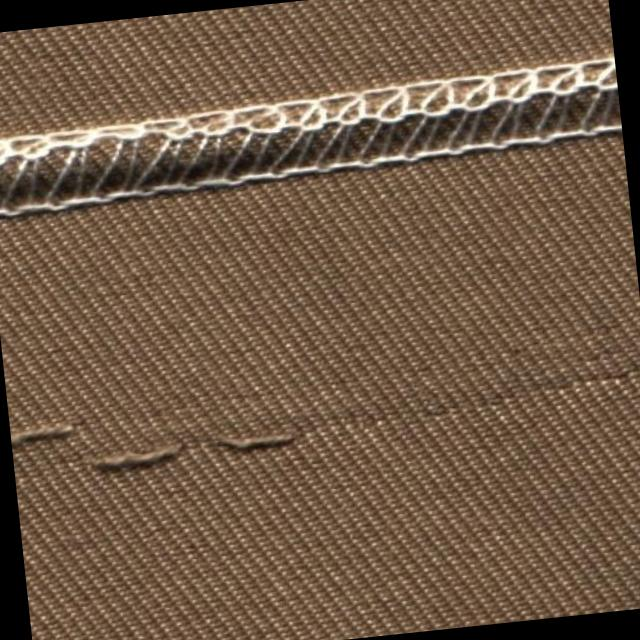gray stitch: (0, 48, 621, 228)
